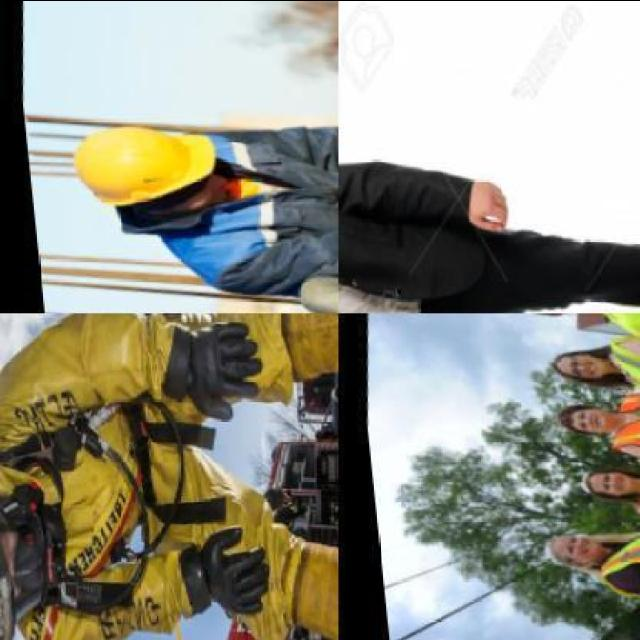helmet: (69, 115, 221, 216)
